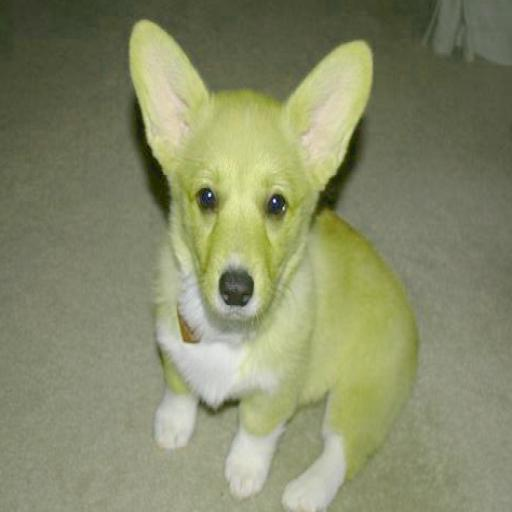dog_face: (124, 21, 362, 326)
